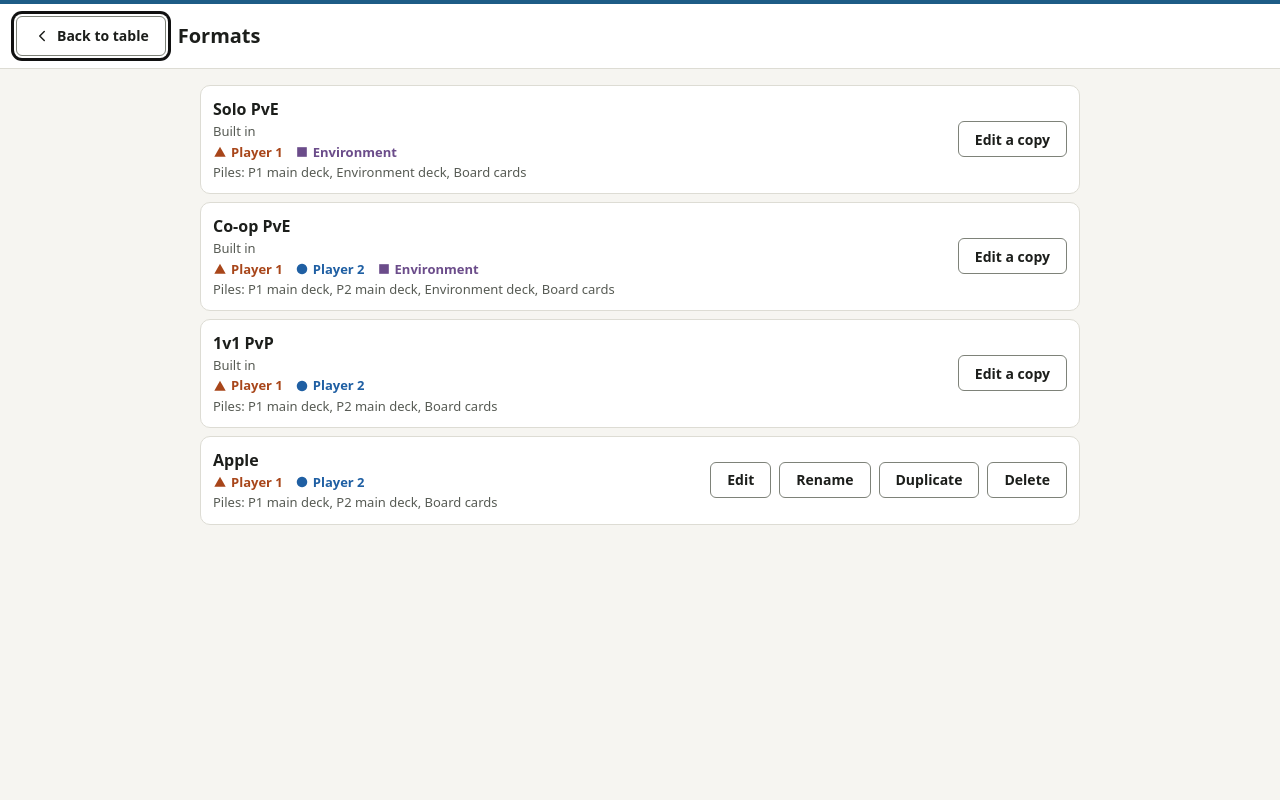
FS-2 formats list › duplicates a saved format, saves the copy, announces it and focuses its Rename button
Click the button with aria-label "Duplicate Apple" at (929, 480), box [878,462,980,498]
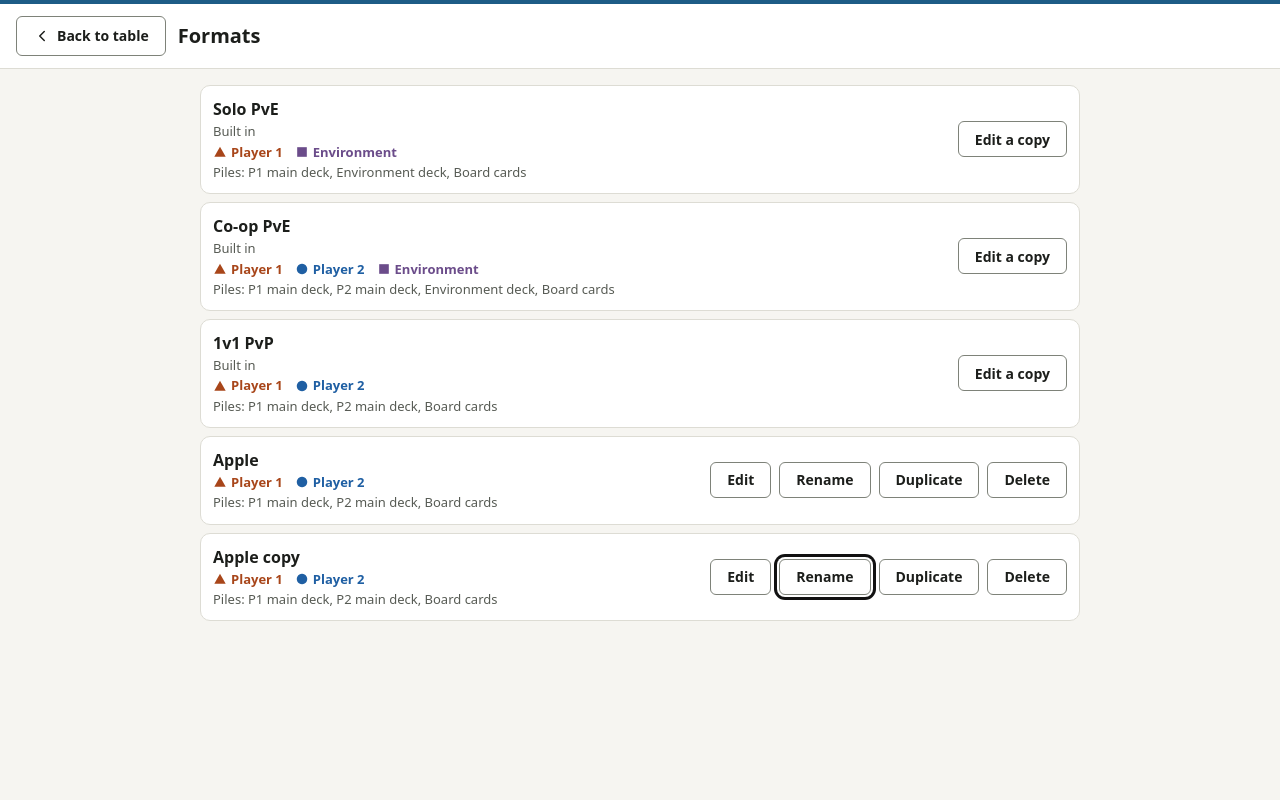
Click the button with aria-label "Duplicate Apple" at (929, 480), box [878,462,980,498]
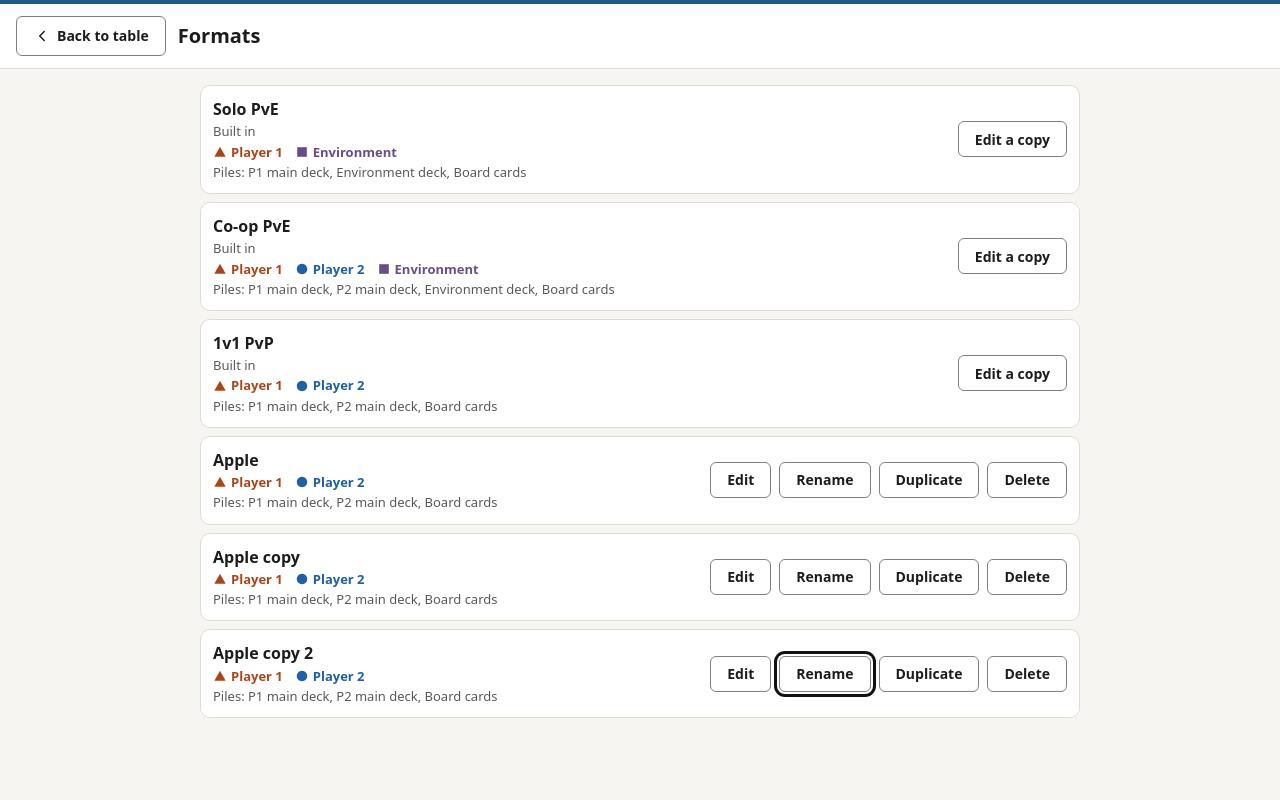
Expected: the text "Apple copy 2" is shown, [213,642,313,664]
